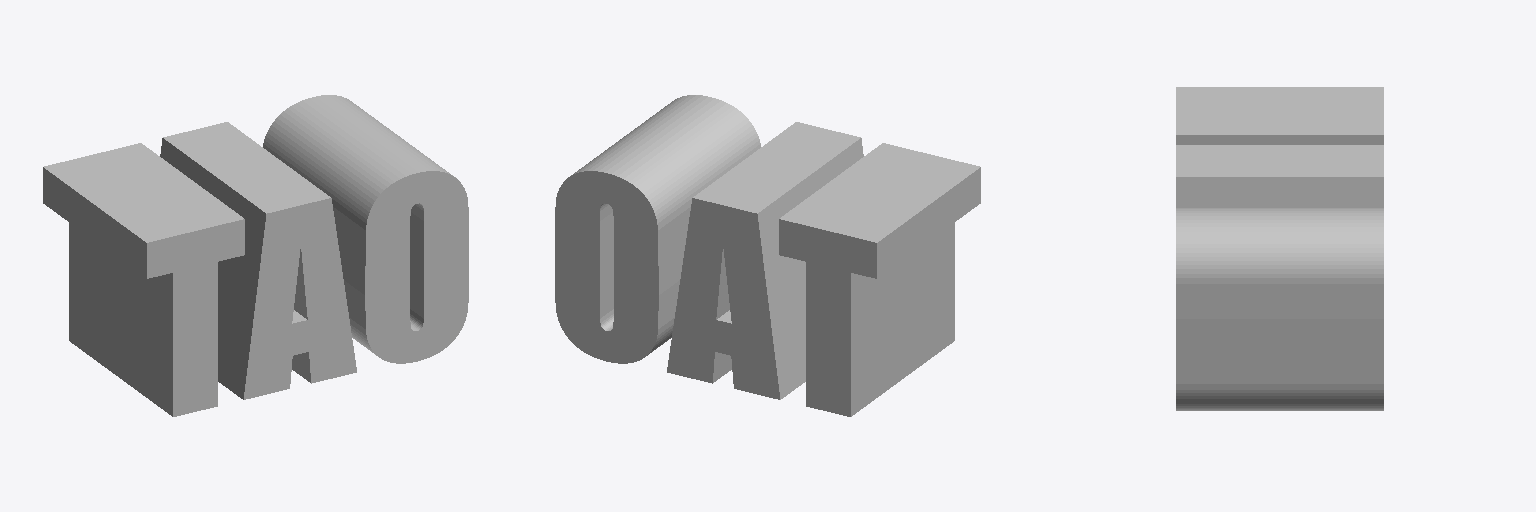
The model's file is tao.obj.
3 renders of one model, left to right at view 1: azimuth 30°, elevation 25°; view 2: azimuth 150°, elevation 25°; view 3: azimuth 270°, elevation 25°, orthographic.
Visible parts, largest first — view 1: TAO; view 2: TAO; view 3: TAO.
Boxes of the visible parts, <box> form: TAO: <box>43,95,468,416</box>; TAO: <box>555,95,980,416</box>; TAO: <box>1176,87,1383,410</box>.
Bounding box in the file's own units: 7.51 × 4.19 × 4.19.